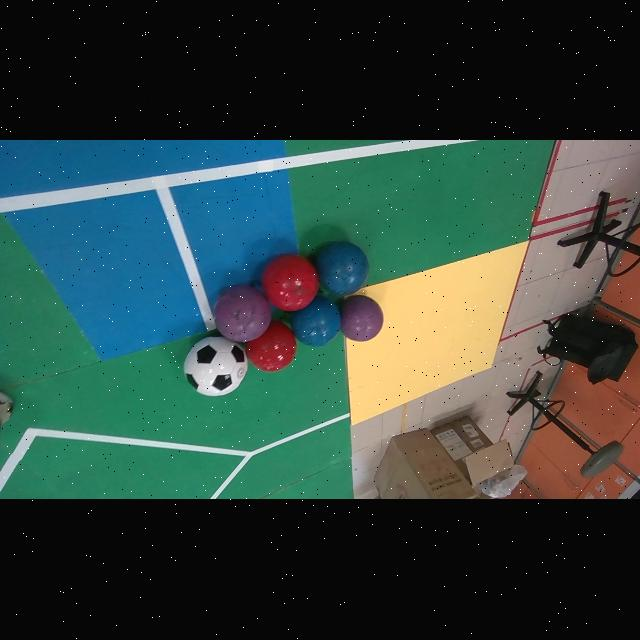B: (317, 242, 369, 296), (292, 297, 340, 347)
P: (214, 286, 272, 343), (340, 297, 384, 342)
R: (261, 255, 318, 312), (245, 322, 295, 372)
